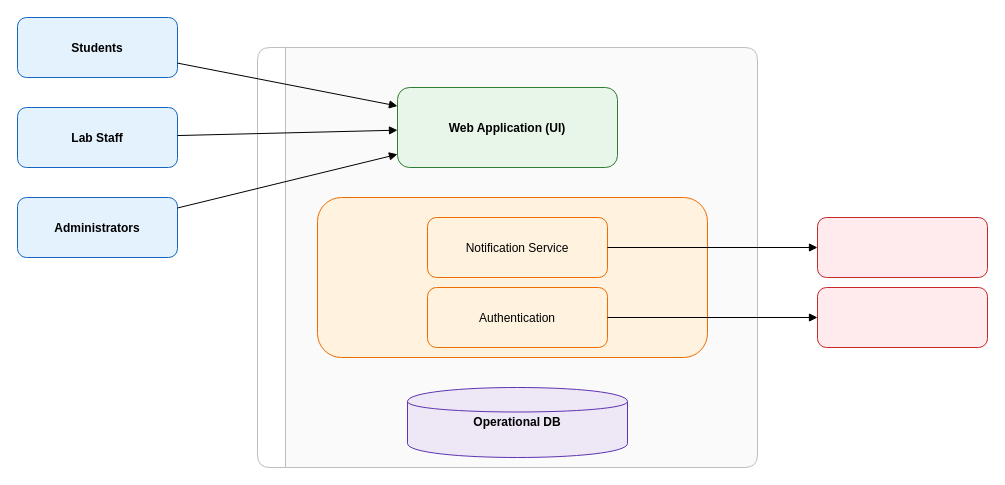
This 1005x485 diagram has some shape labels left out. Each missing label, with the box of its shape:
Backend Services: (316, 196, 708, 358)
Email Gateway: (816, 216, 988, 278)
LabEMS System: (256, 46, 758, 468)
University SSO: (816, 286, 988, 348)
